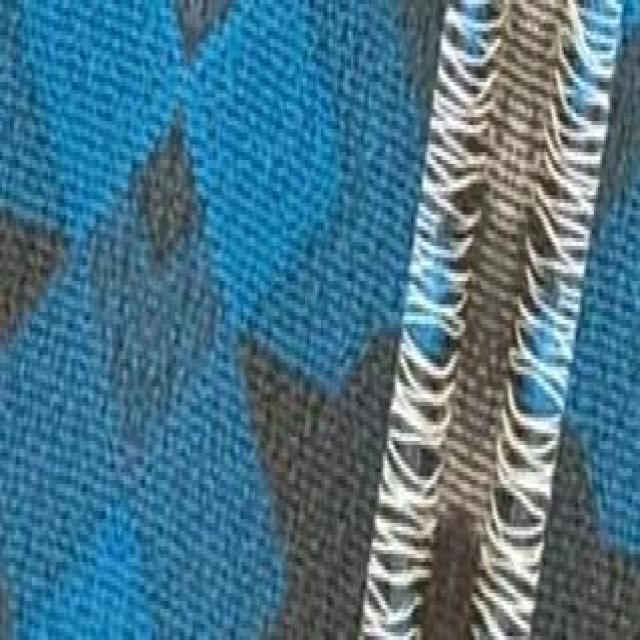gray stitch: (390, 0, 509, 410), (511, 4, 621, 398), (470, 398, 563, 640), (355, 414, 452, 636)
